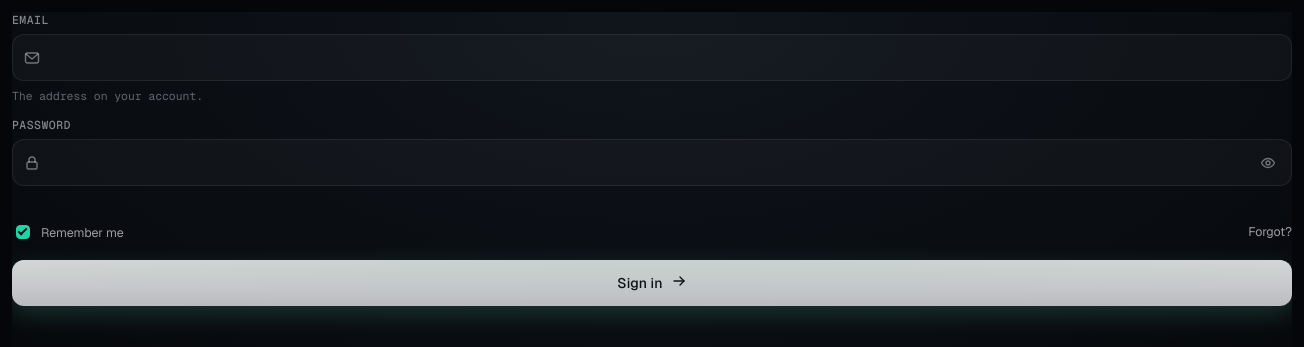
Test case: SignInForm › disables submit until email is valid and password ≥ 6 chars
The width and height of the screenshot is (1304, 347).
Expected: the button "Sign in" is disabled, [12,260,1292,306]
Type "jane@example.com" into the field labelled "Email".
click(671, 58); type("jane@example.com")  # box [51,35,1291,80]
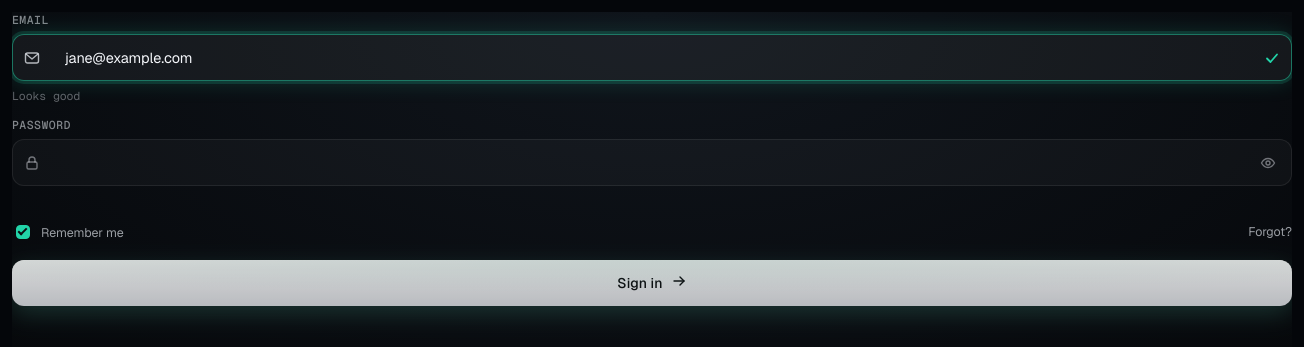
Type "short" into the password field labelled "Password".
click(650, 162); type("short")  # box [51,140,1249,185]
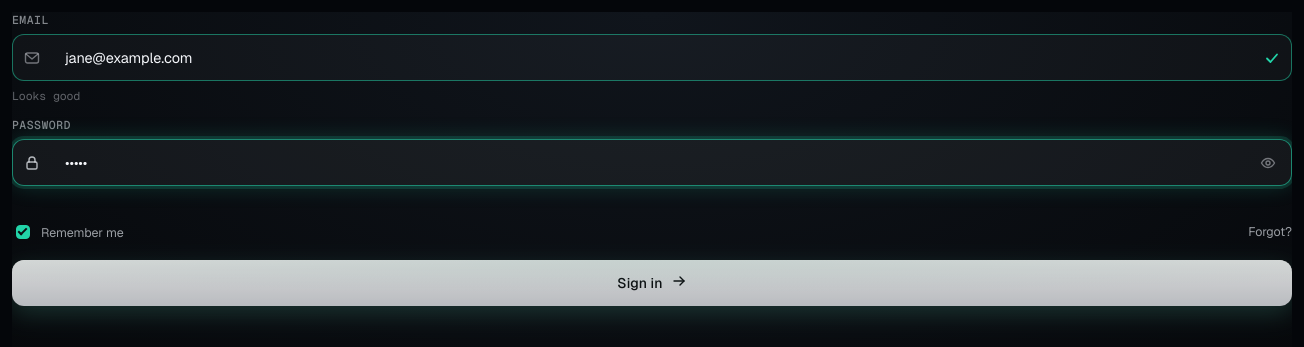
Expected: the button "Sign in" is disabled, [12,260,1292,306]
Type "er" into the password field labelled "Password".
click(650, 162); type("er")  # box [51,140,1249,185]
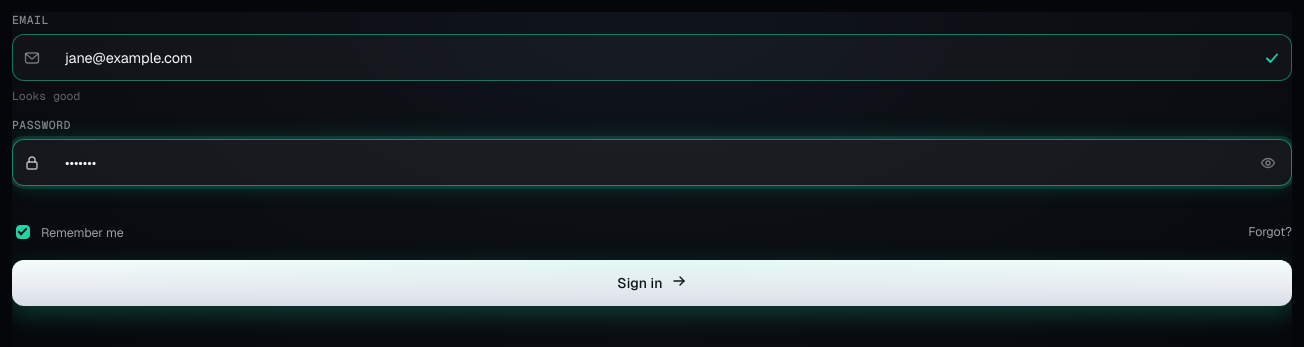
Result: the button "Sign in" is enabled at [12,260,1292,306]
